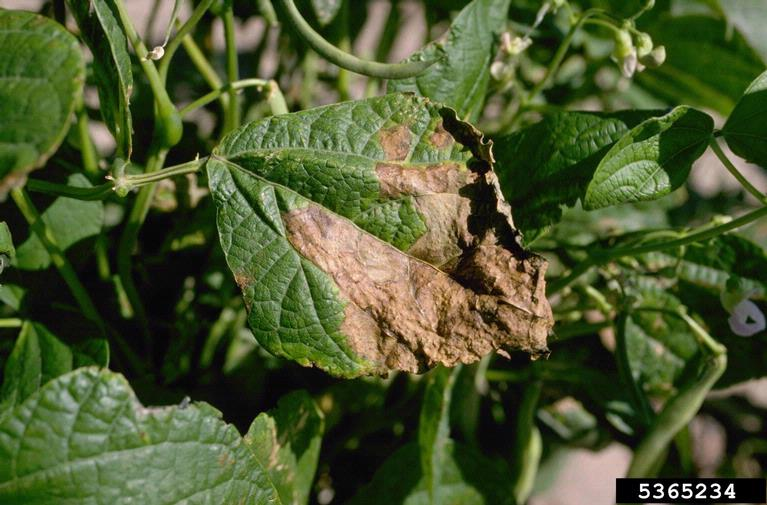StringBeans_BacterialBlight: (205, 93, 556, 411)
